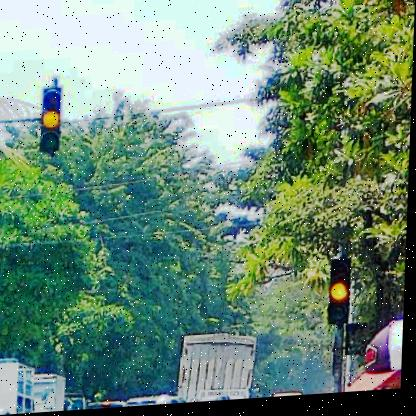Traffic Light -Yellow-: (329, 262, 352, 330), (41, 87, 63, 152)
